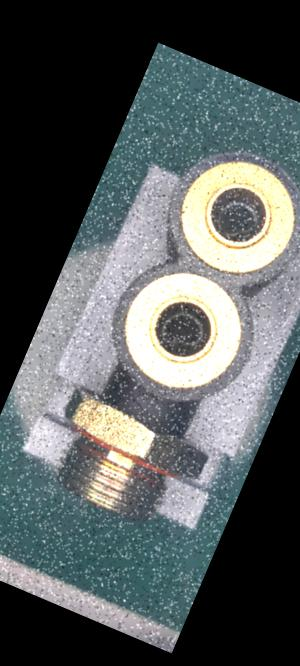craze: (124, 391, 150, 411)
off-centered: (205, 186, 274, 250), (151, 301, 212, 360)
